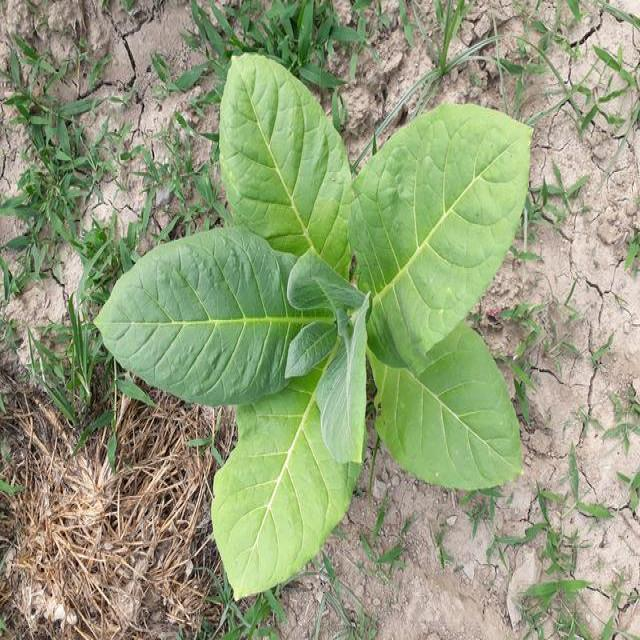crop: (94, 55, 534, 600)
